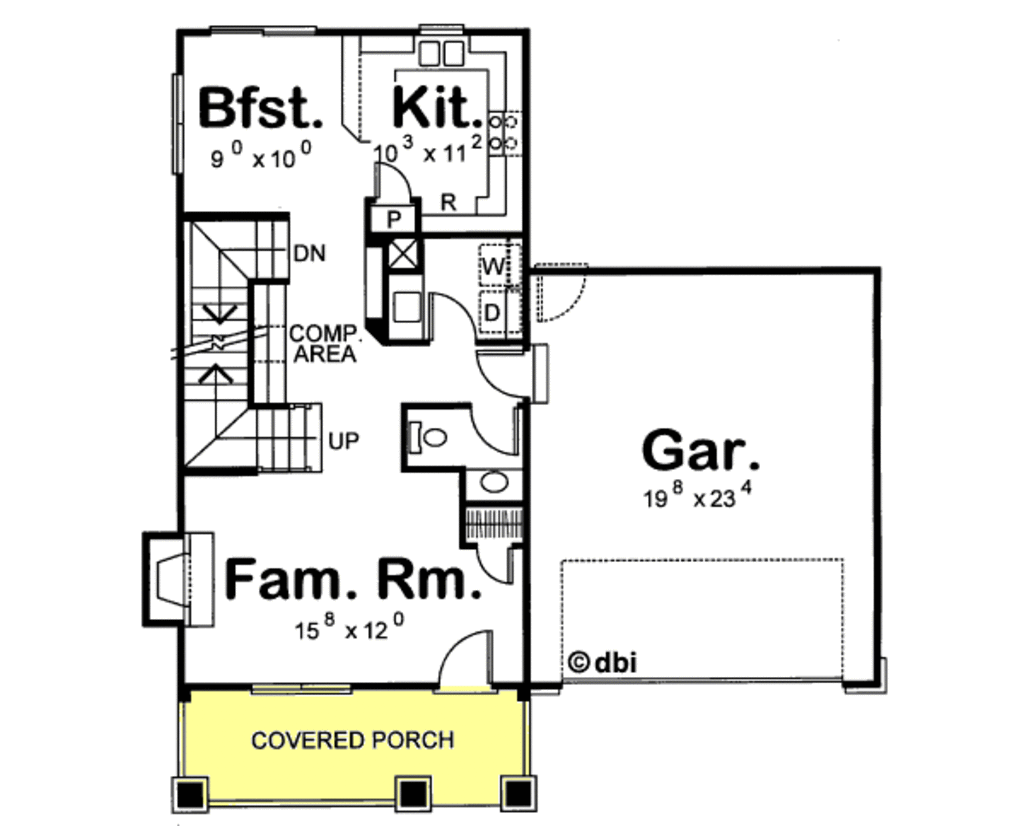door: (430, 620, 497, 697), (470, 343, 560, 400), (462, 402, 525, 460), (426, 288, 478, 340), (466, 540, 515, 588), (375, 155, 412, 205)
large_sink: (400, 409, 450, 464)
small_sink: (475, 469, 513, 503)
stairs: (178, 209, 322, 473)
twin_sink: (412, 34, 466, 75)
window: (167, 68, 185, 177), (255, 683, 352, 697)
